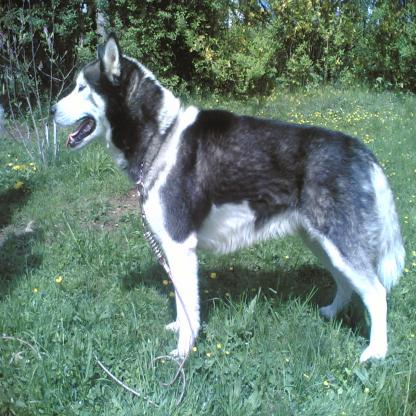dog: (51, 38, 406, 367)
